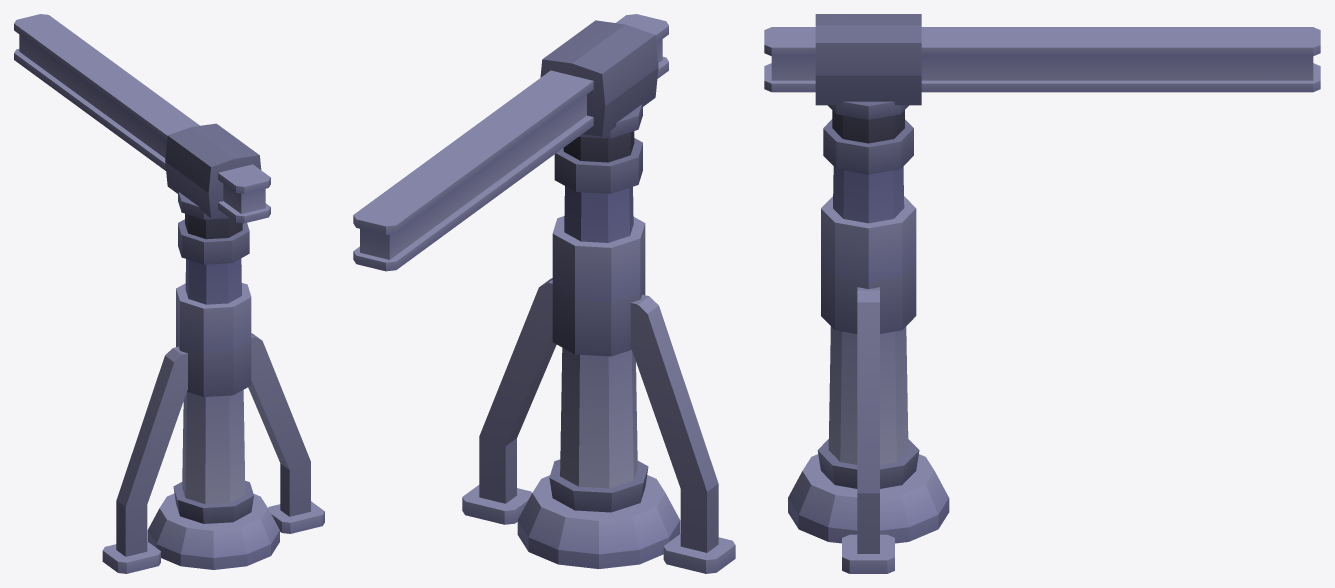
Rendered from sand2-crane-col.glb.
3 renders of one model, left to right at view 1: azimuth 30°, elevation 25°; view 2: azimuth 150°, elevation 25°; view 3: azimuth 270°, elevation 25°, orthographic. The views are drawn at different scales.
Visible parts, largest first — view 1: sand2-crane-col; view 2: sand2-crane-col; view 3: sand2-crane-col.
Part boxes in pixels (x1=…): sand2-crane-col: x1=14, y1=14, x2=324, y2=573; sand2-crane-col: x1=353, y1=14, x2=735, y2=573; sand2-crane-col: x1=764, y1=14, x2=1320, y2=573.
Bounding box in the file's own units: 1.67 × 3.09 × 3.2.
1 material, 1 textured.
